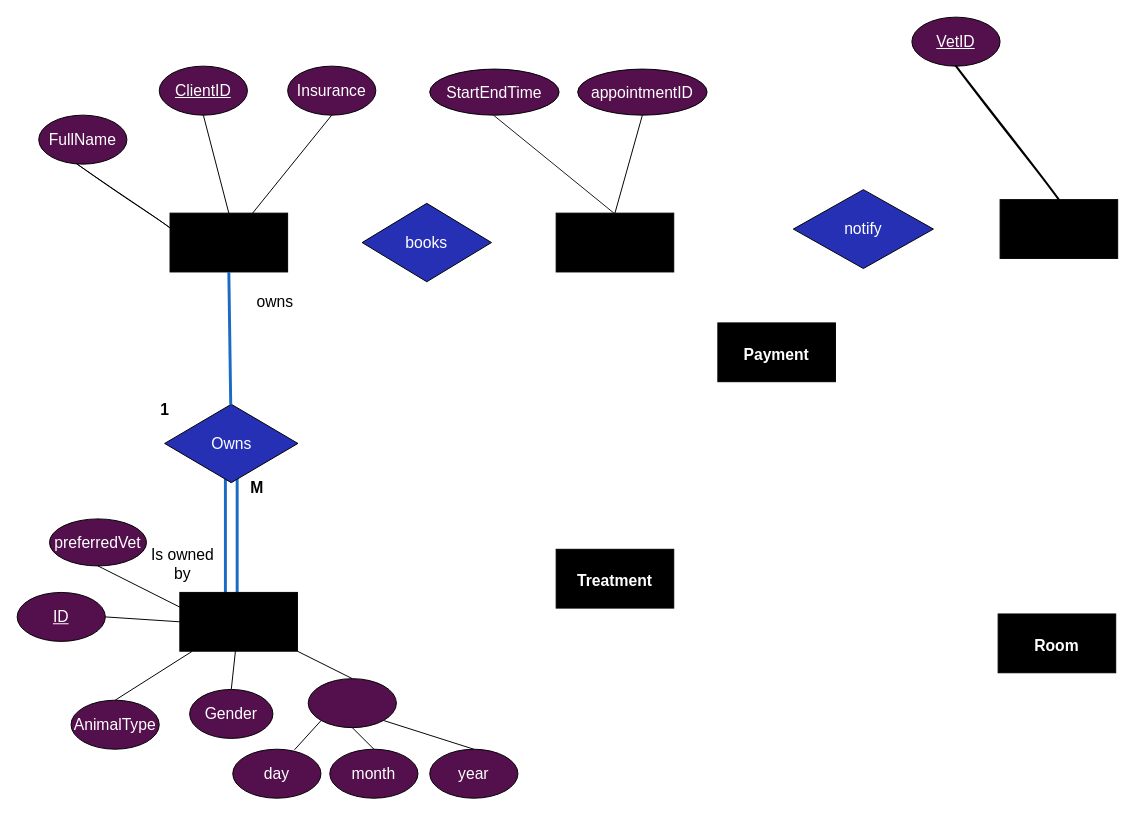
The diagram is 1135 pixels wide and 815 high, and some of its shapes have lost their labels. Each missing label, with the centre of its shape:
Appointment: [614,242]
Birthday: [351,703]
Client: [228,242]
Pet: [238,621]
Vet: [1058,228]
